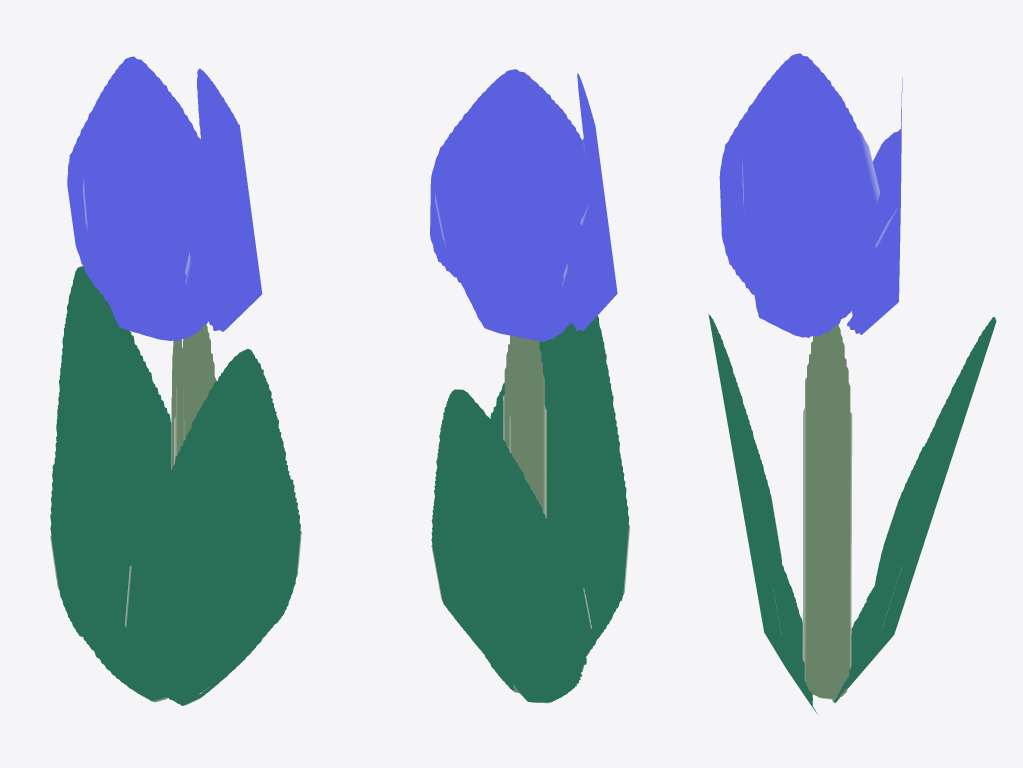
Rendered from Tulip_b.fbx.
3 renders of one model, left to right at view 1: azimuth 30°, elevation 25°; view 2: azimuth 150°, elevation 25°; view 3: azimuth 270°, elevation 25°, orthographic. The views are drawn at different scales.
Visible parts, largest first — view 1: polySurface33; view 2: polySurface33; view 3: polySurface33.
Part boxes in pixels (bbox=[...]): polySurface33: bbox=[50, 56, 301, 705]; polySurface33: bbox=[430, 69, 629, 703]; polySurface33: bbox=[708, 53, 996, 714].
Size of the model in its own units: 0.1498 by 0.3176 by 0.1319.
